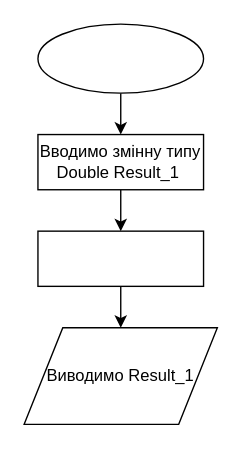
This 242x449 diagram has some shape labels left out. The shapes that lost their labels are listed below. From the top down, each one's centre as x and y in pixels, then its label:
the point at 120,58: Свореня функції множення
the point at 120,258: REsult_1 = число А помножити на два
